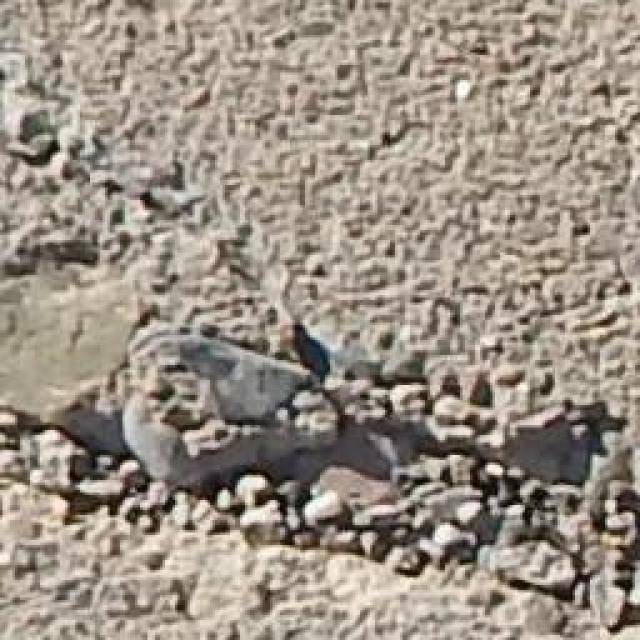concrete-crack: (0, 56, 640, 633)
